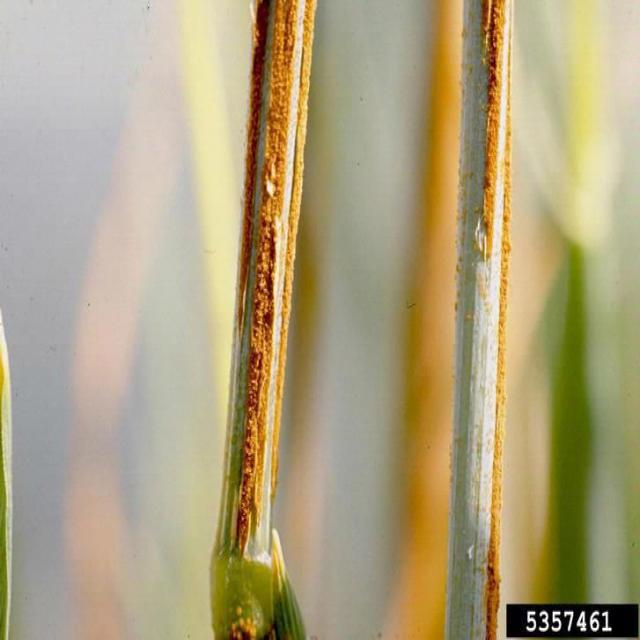wheat-stemrust: (210, 0, 320, 640), (444, 0, 516, 640)
